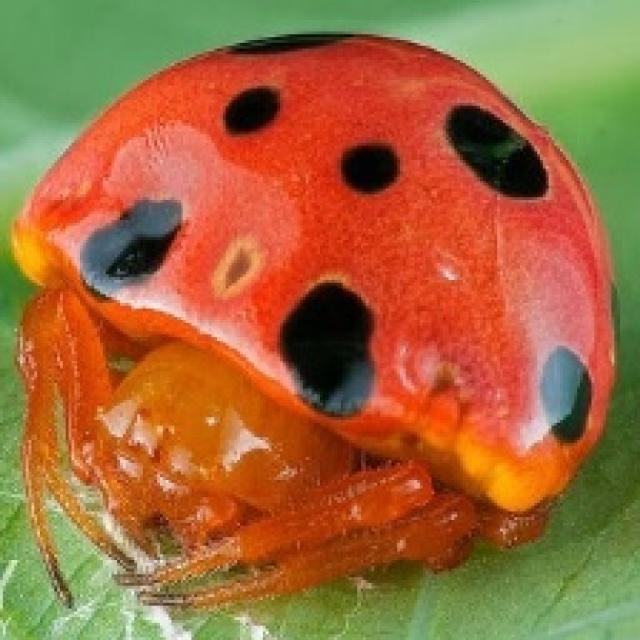Non venomous spider: (19, 19, 598, 560)
